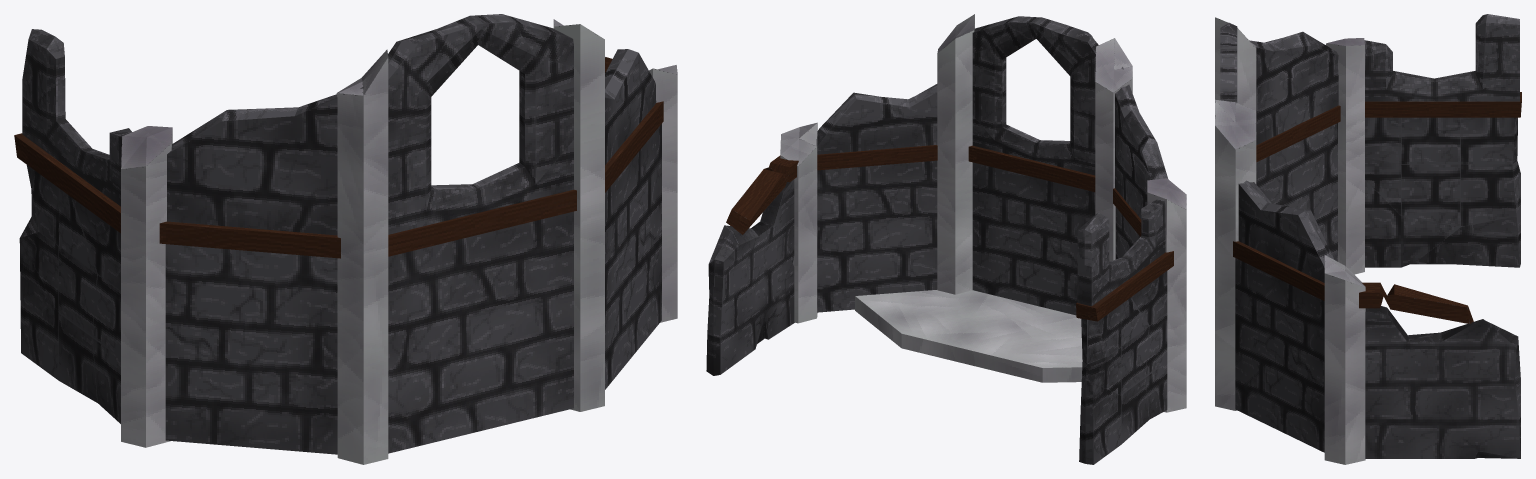
Rendered from Ruins_Base.gltf.
3 views of the same model, side by side, from view 1: azimuth 30°, elevation 25°; view 2: azimuth 150°, elevation 25°; view 3: azimuth 270°, elevation 25° (orthographic). The views are drawn at different scales.
Parts seen in each view (by area): view 1: Wall - Full 1, Wall - Full 2, Wall - Window 1, Pillar 3, Wall - Broken 1, Wall - Full 3, Pillar 4, Pillar 2, Wall - Full 4, Wall - Window 2, Pillar 1, Beam 1 (+4 smaller); view 2: Wall - Full 4, Floor - Stage, Wall - Full 1, Wall - Full 3, Wall - Window 1, Wall - Broken 3, Pillar 2, Wall - Broken 2, Wall - Window 2, Pillar 1, Pillar 4, Pillar 3 (+7 smaller); view 3: Wall - Full 3, Wall - Broken 3, Wall - Full 4, Pillar 2, Pillar 1, Wall - Window 2, Wall - Broken 1, Pillar 4, Wall - Full 2, Wall - Broken 2, Beam 4, Beam - Damaged (+4 smaller).
Boxes of the visible parts, x1,y1,x2,y2 form: Wall - Full 1: [388, 211, 573, 453]; Wall - Full 2: [165, 244, 337, 454]; Wall - Window 1: [388, 14, 573, 234]; Pillar 3: [336, 49, 388, 464]; Wall - Broken 1: [167, 87, 363, 235]; Wall - Full 3: [19, 165, 120, 423]; Pillar 4: [121, 126, 172, 447]; Pillar 2: [553, 19, 604, 411]; Wall - Full 4: [605, 124, 661, 389]; Wall - Window 2: [22, 29, 131, 206]; Pillar 1: [649, 65, 677, 322]; Beam 1: [388, 189, 576, 256]; Wall - Full 4: [817, 160, 937, 312]; Floor - Stage: [855, 290, 1082, 382]; Wall - Full 1: [972, 162, 1095, 315]; Wall - Full 3: [1079, 271, 1167, 464]; Wall - Window 1: [972, 16, 1098, 175]; Wall - Broken 3: [706, 179, 794, 375]; Pillar 2: [937, 14, 974, 294]; Wall - Broken 2: [817, 84, 937, 154]; Wall - Window 2: [1077, 199, 1165, 306]; Pillar 1: [780, 122, 817, 323]; Pillar 4: [1147, 178, 1186, 412]; Pillar 3: [1095, 38, 1132, 261]; Wall - Full 3: [1365, 117, 1520, 267]; Wall - Broken 3: [1365, 306, 1520, 458]; Wall - Full 4: [1235, 258, 1324, 452]; Pillar 2: [1215, 99, 1256, 410]; Pillar 1: [1324, 255, 1365, 464]; Wall - Window 2: [1364, 14, 1519, 101]; Wall - Broken 1: [1249, 31, 1338, 145]; Pillar 4: [1326, 38, 1364, 274]; Wall - Full 2: [1256, 123, 1337, 261]; Wall - Broken 2: [1238, 180, 1333, 282]; Beam 4: [1365, 92, 1521, 117]; Beam - Damaged: [1359, 282, 1473, 323].
Bounding box in the file's own units: 8.98 × 6.34 × 5.6.
Materials: 1 (1 with a texture image).
